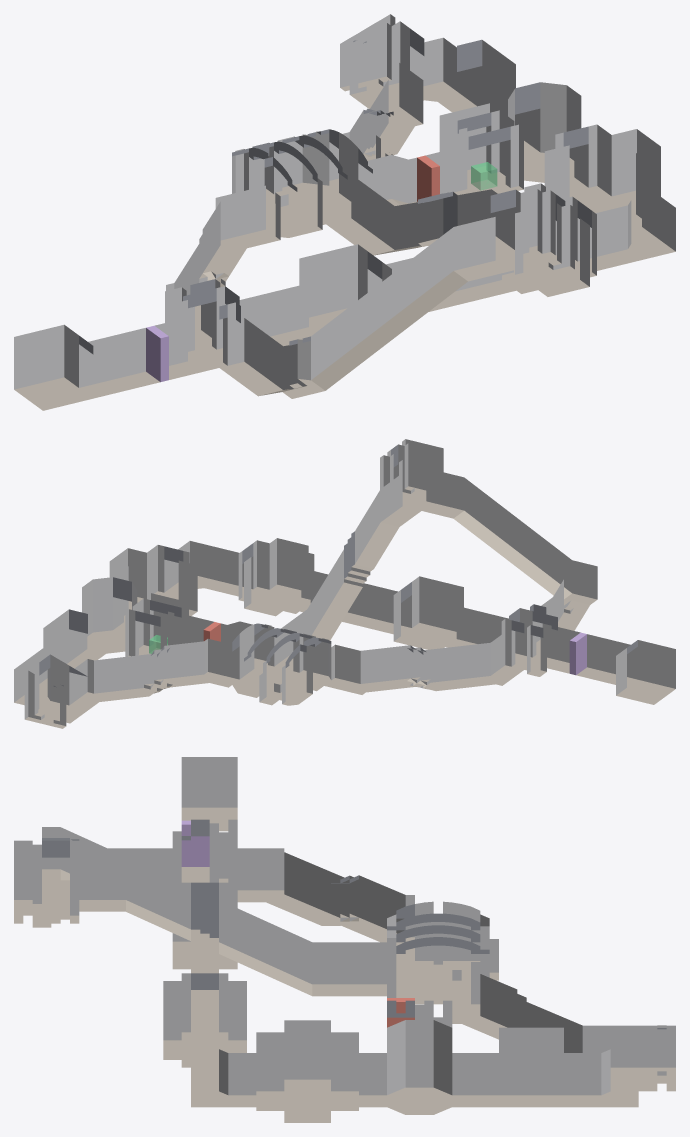
File: works_02.glb
3 views of the same model, one above another, from view 1: azimuth 30°, elevation 25°; view 2: azimuth 150°, elevation 25°; view 3: azimuth 270°, elevation 25° (orthographic). The views are drawn at different scales.
Parts seen in each view (by area): view 1: corridor:6, corridor:5, room:1, corridor:0, corridor:3, room:5, corridor:4, corridor:2, room:2, room:3, corridor:1, room:0 (+8 smaller); view 2: corridor:6, corridor:5, corridor:3, corridor:2, corridor:0, room:1, room:5, corridor:4, room:3, room:2, room:0, room:4 (+9 smaller); view 3: corridor:6, corridor:0, corridor:3, room:1, corridor:2, room:3, room:5, corridor:5, room:0, room:4/portals, entities, room:0/portals (+4 smaller).
Boxes of the visible parts, box(x1,y1,x2,y2) form: corridor:6: box(225, 37, 675, 346); corridor:5: box(224, 217, 509, 398); room:1: box(232, 129, 367, 237); corridor:0: box(331, 178, 515, 255); corridor:3: box(166, 185, 280, 345); room:5: box(14, 324, 93, 410); corridor:4: box(79, 319, 201, 398); corridor:2: box(329, 63, 423, 192); room:2: box(439, 103, 523, 194); room:3: box(340, 14, 424, 108); corridor:1: box(358, 147, 462, 205); room:0: box(490, 183, 574, 281); corridor:6: box(14, 538, 519, 708); corridor:5: box(422, 470, 597, 652); corridor:3: box(324, 635, 520, 694); corridor:2: box(69, 638, 239, 709); corridor:0: box(278, 476, 417, 667); room:1: box(232, 623, 331, 705); room:5: box(616, 640, 675, 704); corridor:4: box(551, 627, 637, 687); room:3: box(24, 654, 87, 728); room:2: box(125, 593, 188, 656); room:0: box(380, 439, 443, 513); room:4: box(501, 604, 557, 676); corridor:6: box(163, 882, 638, 1122); corridor:0: box(79, 857, 386, 996); corridor:3: box(237, 848, 414, 960); room:1: box(387, 901, 489, 1004); corridor:2: box(452, 962, 610, 1052); room:3: box(610, 1025, 675, 1091); room:5: box(181, 757, 237, 831); corridor:5: box(42, 827, 172, 899); room:0: box(14, 840, 79, 923); room:4/portals: box(172, 823, 237, 882); entities: box(181, 820, 414, 1027); room:0/portals: box(32, 844, 79, 915).
Bounding box in the file's own units: 80 × 18 × 71.
